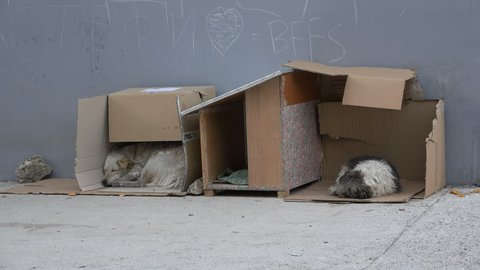box: (291, 61, 446, 203), (73, 87, 213, 195)
dog: (103, 143, 186, 189), (333, 155, 404, 199)
